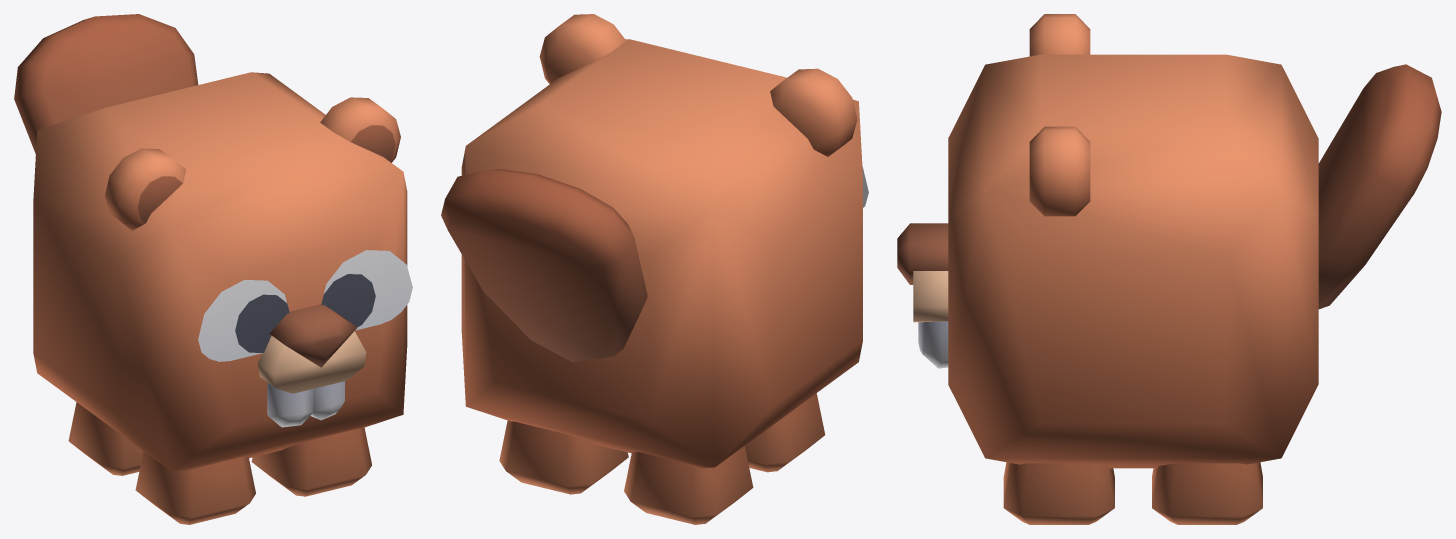
File: cc0-beaver-lod0.glb
The picture shows the model from 3 angles, left to right: view 1: azimuth 30°, elevation 25°; view 2: azimuth 150°, elevation 25°; view 3: azimuth 270°, elevation 25°; orthographic projection. The views are drawn at different scales.
Visible parts, largest first — view 1: part_5, part_6, part_4, part_3, part_2; view 2: part_5, part_6, part_2, part_1, part_4; view 3: part_5, part_6, part_3, part_1.
Part boxes in pixels (x1=…): part_5: x1=33, y1=72, x2=412, y2=472; part_6: x1=14, y1=14, x2=198, y2=154; part_4: x1=135, y1=451, x2=255, y2=524; part_3: x1=251, y1=427, x2=371, y2=496; part_2: x1=68, y1=402, x2=143, y2=475; part_5: x1=461, y1=14, x2=868, y2=468; part_6: x1=441, y1=169, x2=647, y2=362; part_2: x1=624, y1=446, x2=753, y2=524; part_1: x1=499, y1=420, x2=628, y2=494; part_4: x1=745, y1=393, x2=825, y2=472; part_5: x1=897, y1=14, x2=1318, y2=468; part_6: x1=1318, y1=64, x2=1441, y2=309; part_3: x1=1003, y1=462, x2=1114, y2=524; part_1: x1=1152, y1=462, x2=1262, y2=524.
Bounding box in the file's own units: 1.25 × 1.5 × 1.84.
Materials: 1 (1 with a texture image).
